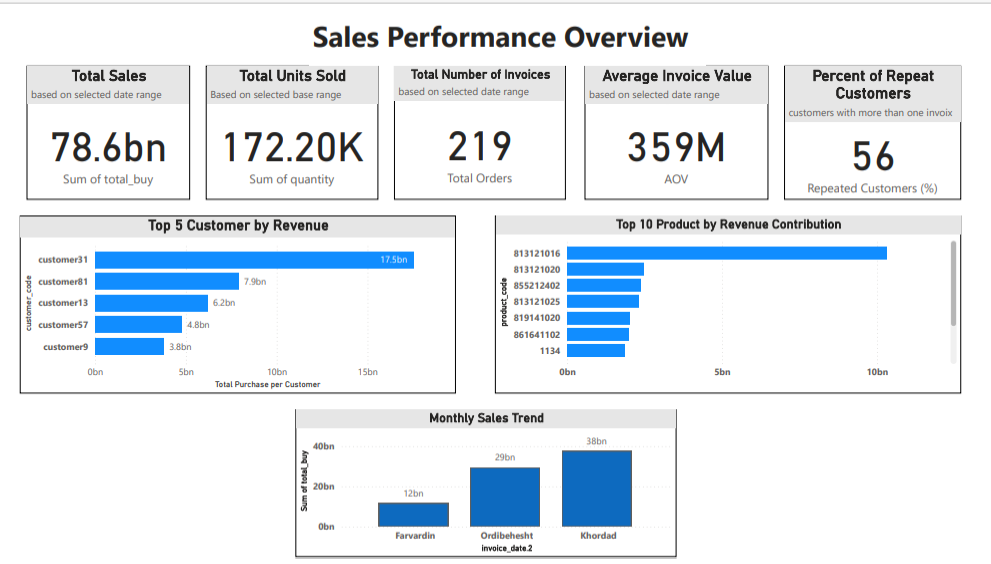

Layout of this report page (visuals, bound fields, positions):
{"tool":"powerbi","page":{"name":"Page 1","canvas":[1280,720],"ordinal":0},"visuals":[{"type":"clusteredBarChart","title":"Top 5 Customer by Revenue","fields":{"Category":["public mana_invoices.customer_code"],"Y":["public mana_invoices.Total Purchase per Customer"]},"box":[9.1,268.2,579,234.7],"z":0},{"type":"clusteredColumnChart","title":"Monthly Sales Trend","fields":{"Category":["public mana_invoices.invoice_date.2"],"Y":["Sum(public mana_invoices.total_buy)"]},"box":[374.9,524.2,505.9,195],"z":1000},{"type":"clusteredBarChart","title":"Top 10 Product by Revenue Contribution","fields":{"Category":["public mana_invoices.product_code"],"Y":["Sum(public mana_invoices.total_buy)"]},"box":[640,268.2,618.7,234.7],"z":2000},{"type":"card","title":"Total Sales","fields":{"Values":["Sum(public mana_invoices.total_buy)"]},"box":[18.3,70.1,216.4,176.8],"z":3000},{"type":"card","title":"Total Units Sold","fields":{"Values":["Sum(public mana_invoices.quantity)"]},"box":[256,70.1,228.6,176.8],"z":4000},{"type":"card","title":"Total Number of Invoices","fields":{"Values":["public mana_invoices.Total Orders"]},"box":[505.9,70.1,228.6,176.8],"z":5000},{"type":"card","title":"Average Invoice Value","fields":{"Values":["public mana_invoices.AOV"]},"box":[758.9,70.1,243.8,176.8],"z":6000},{"type":"card","title":"Percent of Repeat Customers","fields":{"Values":["public mana_invoices.Repeated Customers Rate"]},"box":[1024,70.1,234.7,176.8],"z":7000},{"type":"textbox","box":[393.1,0,527.2,70.1],"z":8000}]}

Visuals, with their boxes in screenshot pixels (x1, y1, x2, y2), scaled from the page's 1280x720 canvas onto the 991x564 screenshot:
"Top 5 Customer by Revenue" clusteredBarChart: (left=7, top=210, right=455, bottom=394)
"Monthly Sales Trend" clusteredColumnChart: (left=290, top=411, right=682, bottom=563)
"Top 10 Product by Revenue Contribution" clusteredBarChart: (left=496, top=210, right=975, bottom=394)
"Total Sales" card: (left=14, top=55, right=182, bottom=193)
"Total Units Sold" card: (left=198, top=55, right=375, bottom=193)
"Total Number of Invoices" card: (left=392, top=55, right=569, bottom=193)
"Average Invoice Value" card: (left=588, top=55, right=776, bottom=193)
"Percent of Repeat Customers" card: (left=793, top=55, right=975, bottom=193)
textbox: (left=304, top=0, right=713, bottom=55)
